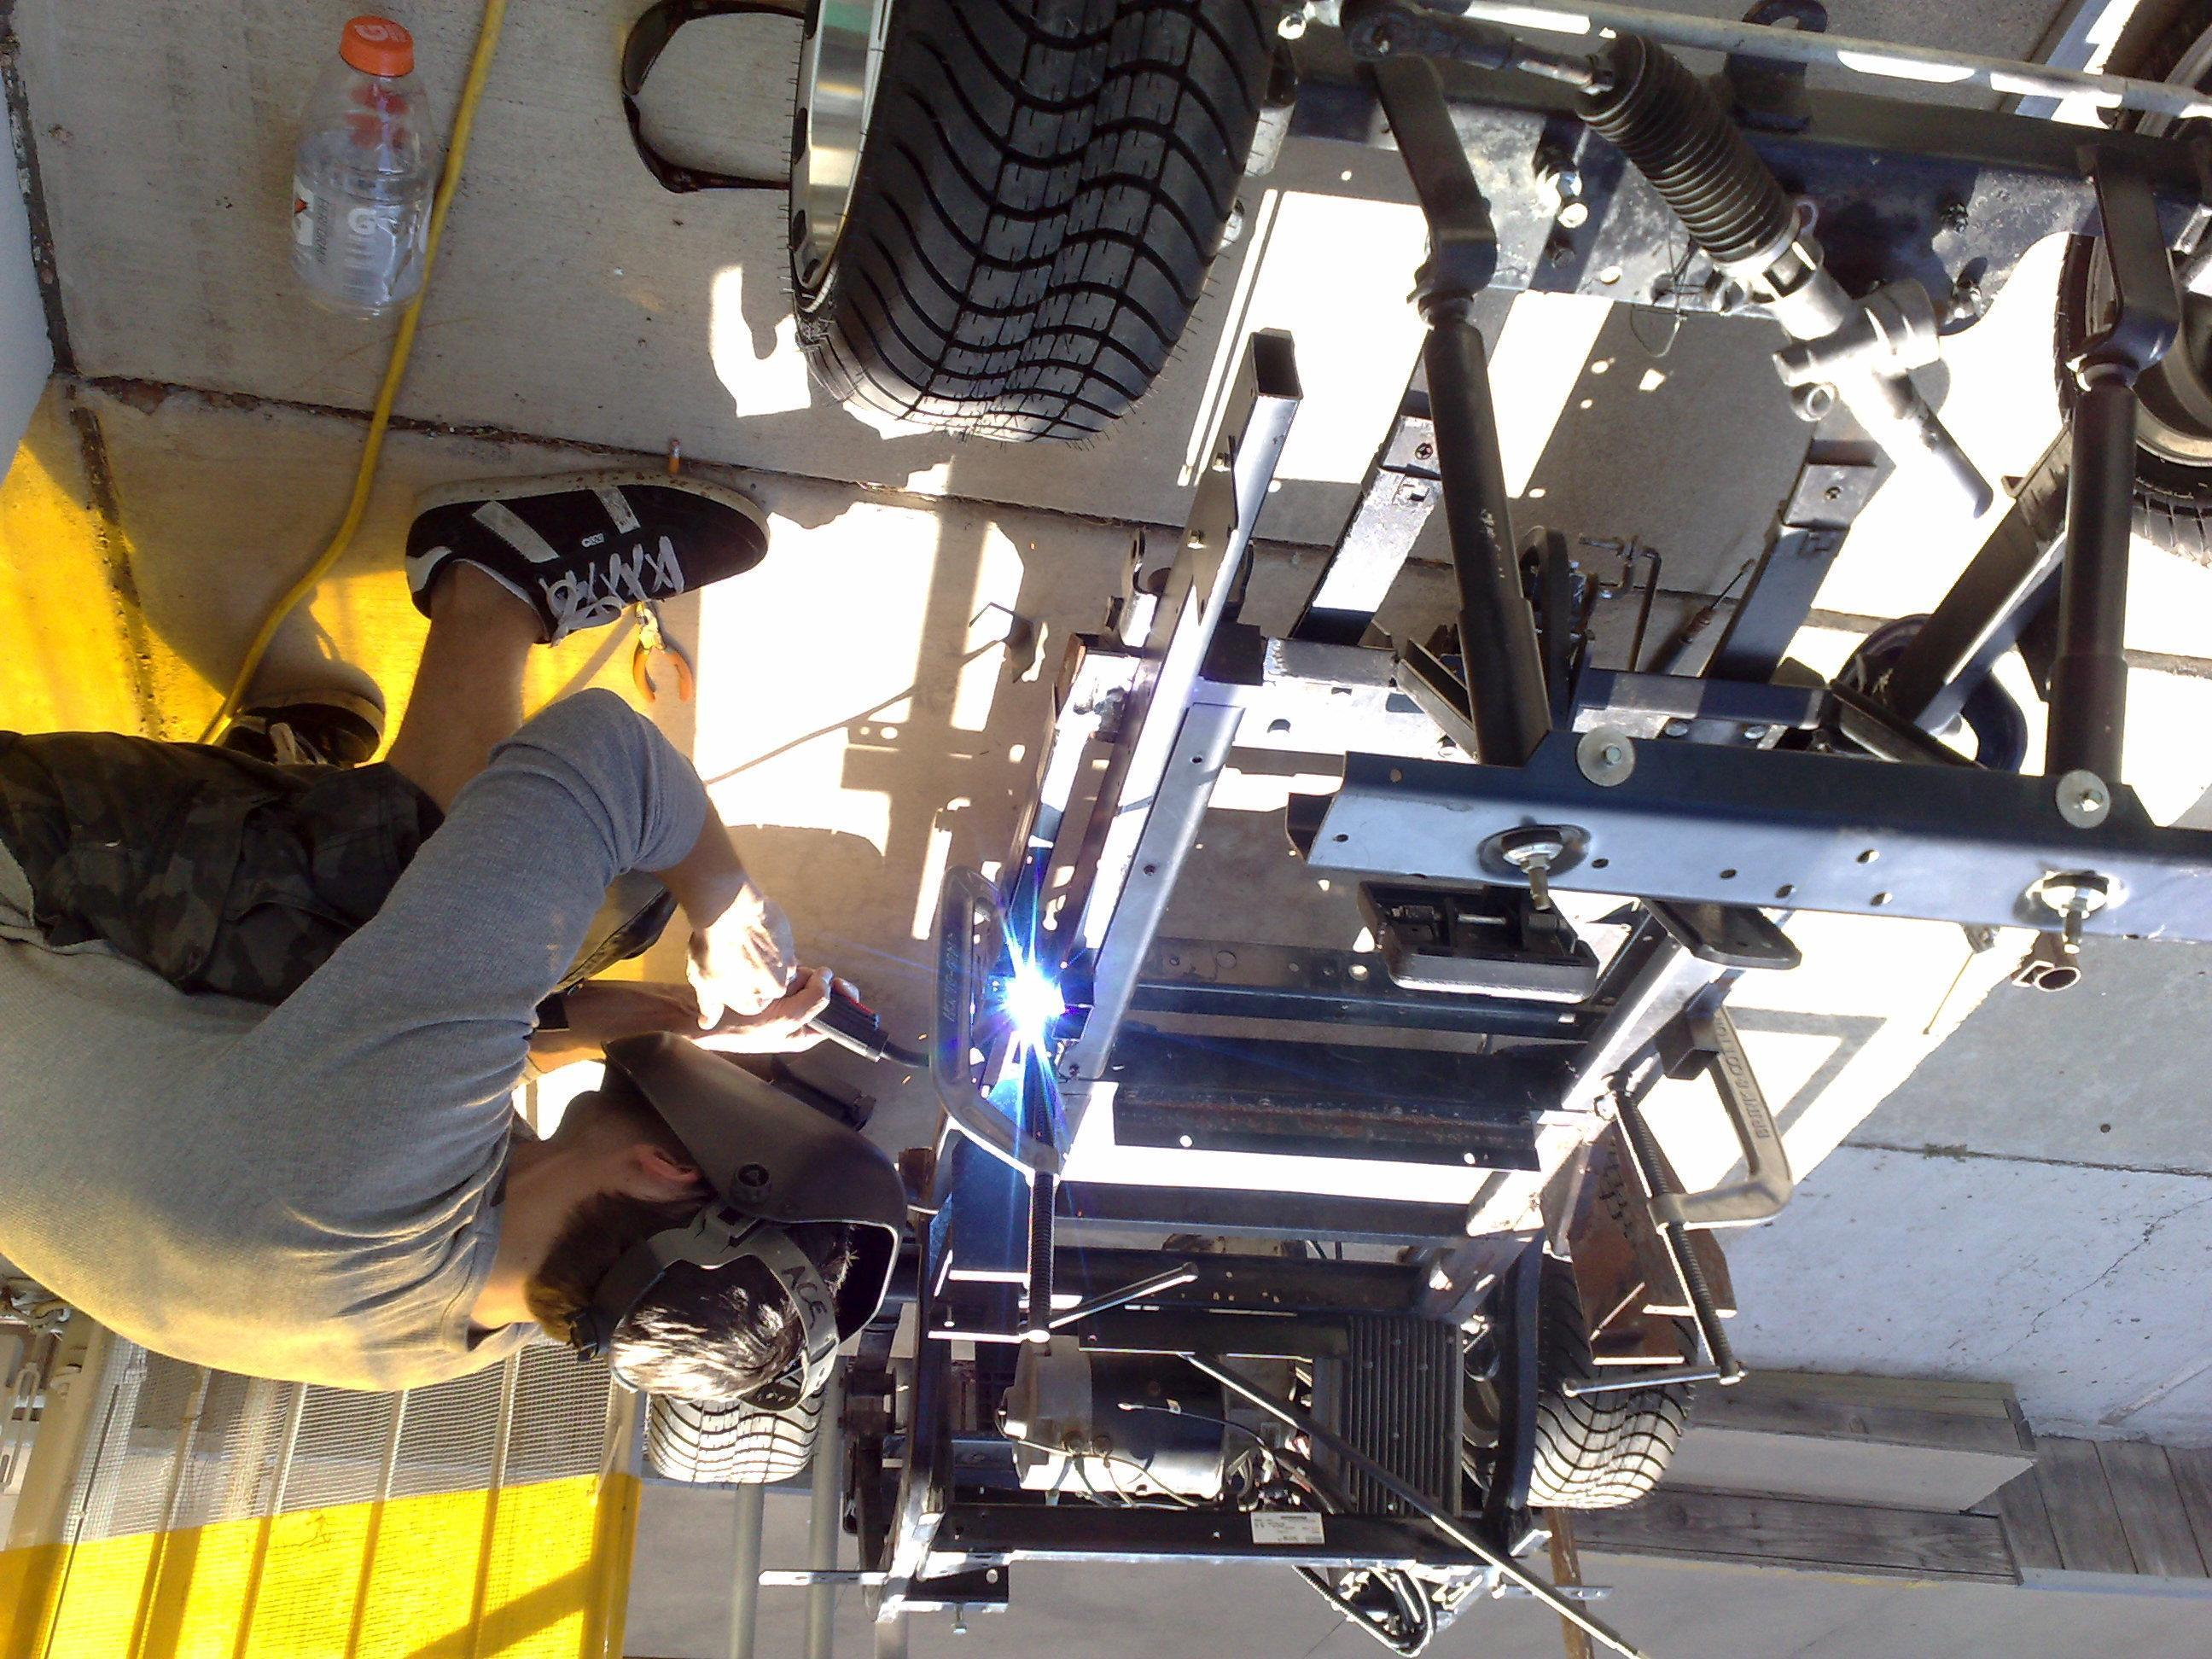Ear-protection: (0, 393, 939, 1542)
